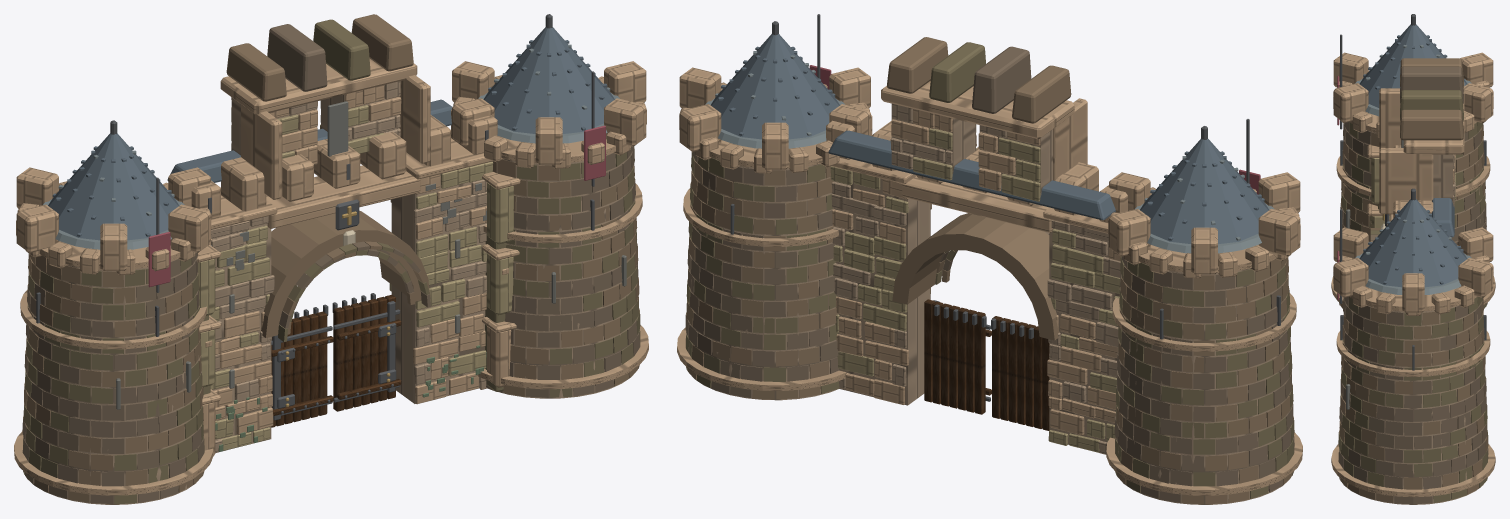
Rendered from valoria_gate_reference.glb.
3 views of the same model, side by side, from view 1: azimuth 30°, elevation 25°; view 2: azimuth 150°, elevation 25°; view 3: azimuth 270°, elevation 25° (orthographic). The views are drawn at different scales.
Visible parts, largest first — view 1: arched_voussoir, ashlar_portal_outboard.007, gate_parapet_recessed_stone_hip, gate_flank_tower_recessed_drum, ashlar_portal_outboard.002, ashlar_portal_outboard.006, ashlar_portal_outboard, ashlar_portal_outboard.001, ashlar_portal_outboard.004, ashlar_portal_outboard.005, ashlar_portal_outboard.003, black_iron_strap.001 (+7 smaller); view 2: arched_voussoir, ashlar_portal_outboard.007, gate_parapet_recessed_stone_hip, ashlar_portal_outboard.002, gate_flank_tower_recessed_drum, ashlar_portal_outboard, ashlar_portal_outboard.001, ashlar_portal_outboard.004, ashlar_portal_outboard.005, ashlar_portal_outboard.003, ashlar_portal_outboard.006, vertical_oak_plank (+4 smaller); view 3: arched_voussoir, gate_parapet_recessed_stone_hip, ashlar_portal_outboard.002, gate_flank_tower_recessed_drum, ashlar_portal_outboard.003, ashlar_portal_outboard.007, ashlar_portal_outboard.006, ashlar_portal_outboard.001, ashlar_portal_outboard, ashlar_portal_outboard.005, ashlar_portal_outboard.004, slate_lap_tile (+2 smaller).
Boxes of the visible parts, x1,y1,x2,y2 form: arched_voussoir: (14, 61, 648, 495); ashlar_portal_outboard.007: (22, 43, 639, 492); gate_parapet_recessed_stone_hip: (48, 27, 614, 240); gate_flank_tower_recessed_drum: (24, 85, 639, 504); ashlar_portal_outboard.002: (22, 14, 639, 502); ashlar_portal_outboard.006: (25, 100, 640, 483); ashlar_portal_outboard: (22, 24, 637, 504); ashlar_portal_outboard.001: (23, 19, 634, 474); ashlar_portal_outboard.004: (24, 143, 640, 504); ashlar_portal_outboard.005: (22, 115, 640, 498); ashlar_portal_outboard.003: (24, 115, 640, 451); black_iron_strap.001: (36, 14, 594, 420); arched_voussoir: (677, 67, 1302, 495); ashlar_portal_outboard.007: (686, 65, 1292, 504); gate_parapet_recessed_stone_hip: (710, 34, 1268, 243); ashlar_portal_outboard.002: (685, 37, 1294, 504); gate_flank_tower_recessed_drum: (686, 118, 1292, 504); ashlar_portal_outboard: (686, 46, 1294, 486); ashlar_portal_outboard.001: (686, 42, 1280, 498); ashlar_portal_outboard.004: (686, 157, 1294, 492); ashlar_portal_outboard.005: (685, 135, 1293, 502); ashlar_portal_outboard.003: (687, 137, 1292, 486); ashlar_portal_outboard.006: (686, 124, 1293, 478); vertical_oak_plank: (924, 299, 1049, 430); arched_voussoir: (1331, 52, 1495, 497); gate_parapet_recessed_stone_hip: (1359, 24, 1467, 287); ashlar_portal_outboard.002: (1341, 109, 1485, 502); gate_flank_tower_recessed_drum: (1341, 128, 1488, 504); ashlar_portal_outboard.003: (1339, 122, 1488, 504); ashlar_portal_outboard.007: (1339, 58, 1488, 494); ashlar_portal_outboard.006: (1338, 140, 1487, 476); ashlar_portal_outboard.001: (1338, 90, 1487, 482); ashlar_portal_outboard: (1338, 66, 1487, 504); ashlar_portal_outboard.005: (1338, 130, 1487, 489); ashlar_portal_outboard.004: (1340, 122, 1487, 502); slate_lap_tile: (1355, 45, 1471, 294).
Bounding box in the file's own units: 18.11 × 10.45 × 5.06.
22 materials, 13 textured.
